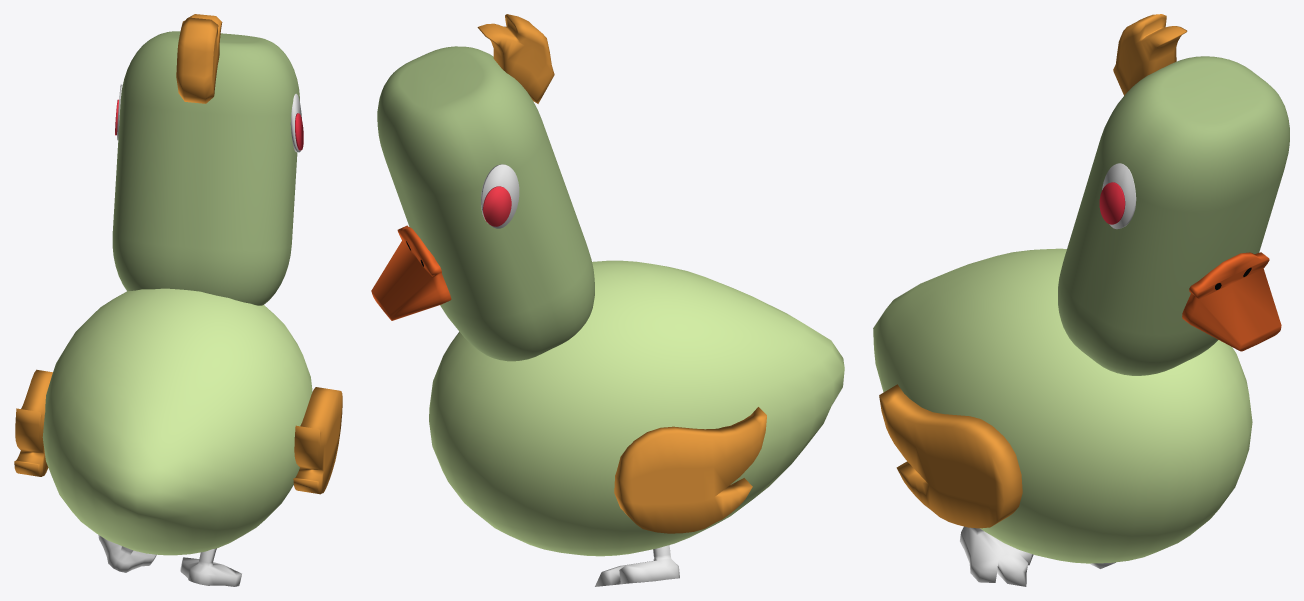
File: duck_3_bread _frency.fbx
3 renders of one model, left to right at view 1: azimuth 30°, elevation 25°; view 2: azimuth 150°, elevation 25°; view 3: azimuth 270°, elevation 25°, orthographic. The views are drawn at different scales.
Visible parts, largest first — view 1: Cube.010; view 2: Cube.010; view 3: Cube.010.
Part boxes in pixels (x1=…): Cube.010: x1=14, y1=14, x2=342, y2=586; Cube.010: x1=371, y1=14, x2=844, y2=586; Cube.010: x1=873, y1=14, x2=1289, y2=586.
Bounding box in the file's own units: 57.91 × 91.25 × 58.33.
